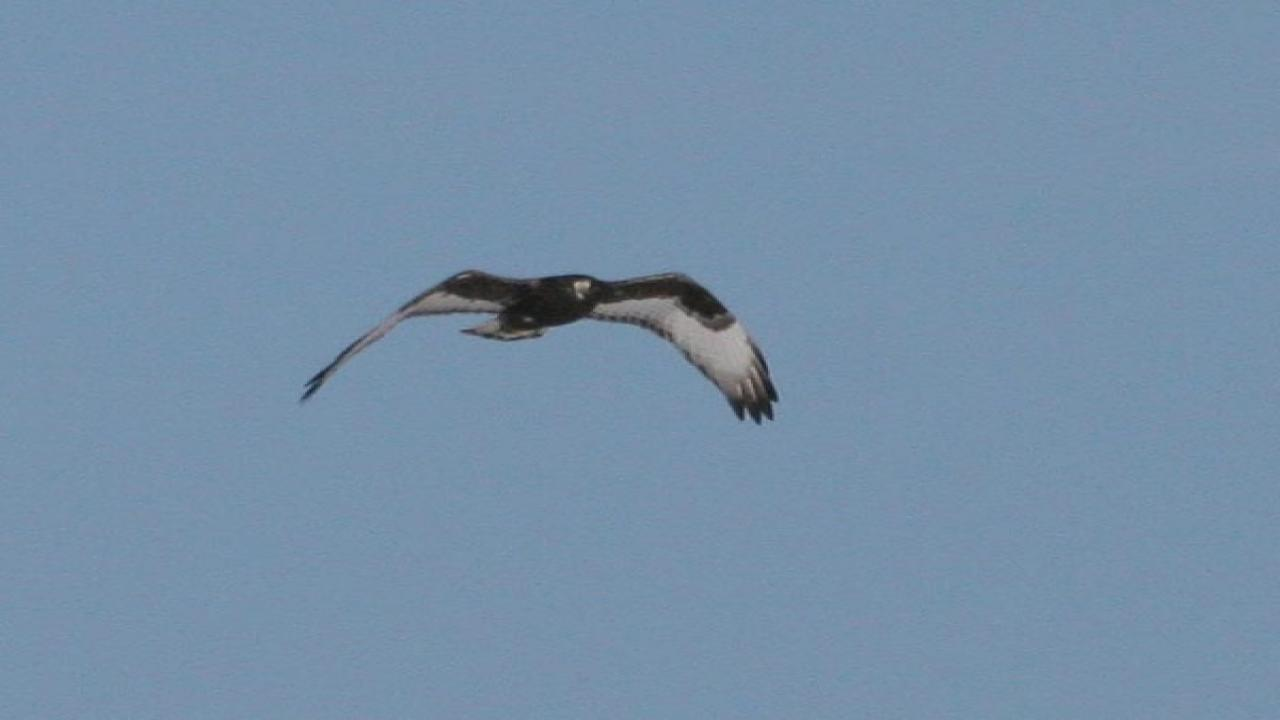Bird: (284, 259, 790, 432)
